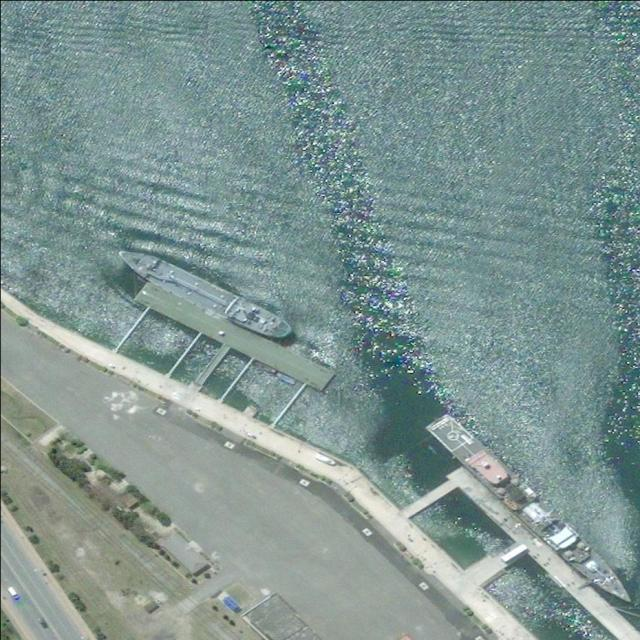Frigate: (427, 409, 639, 611)
Landing: (112, 241, 297, 343)
